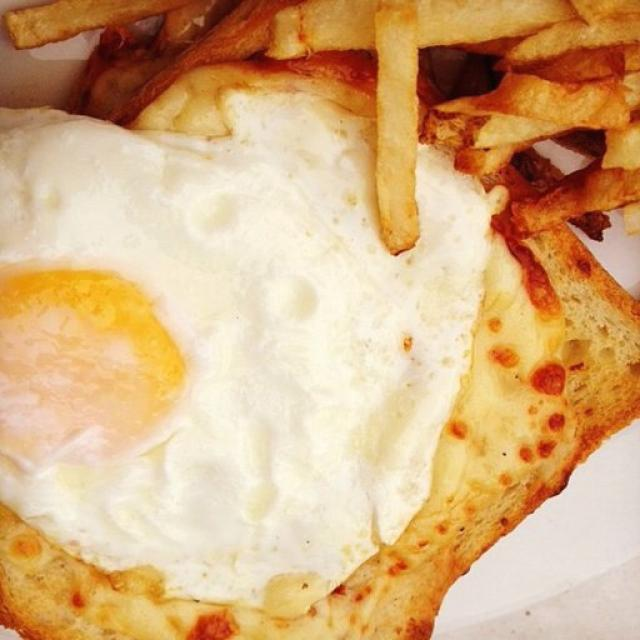telur ceplok: (0, 80, 494, 616)
